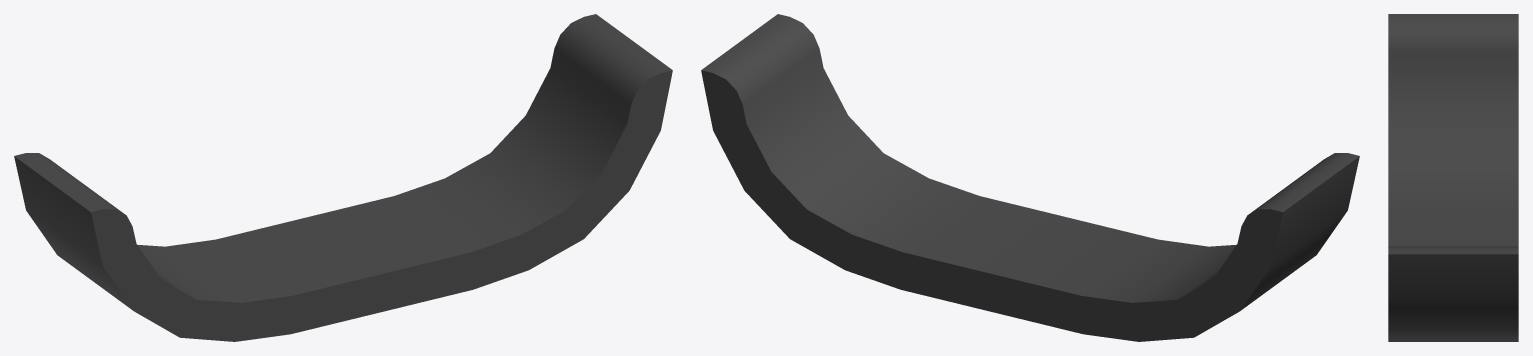
File: diff_10.1.fbx
The picture shows the model from 3 angles, left to right: view 1: azimuth 30°, elevation 25°; view 2: azimuth 150°, elevation 25°; view 3: azimuth 270°, elevation 25°; orthographic projection. The views are drawn at different scales.
Parts seen in each view (by area): view 1: BezierCurve; view 2: BezierCurve; view 3: BezierCurve.
Part boxes in pixels (x1=…): BezierCurve: x1=14, y1=14, x2=672, y2=341; BezierCurve: x1=701, y1=14, x2=1359, y2=341; BezierCurve: x1=1388, y1=14, x2=1518, y2=341.
Bounding box in the file's own units: 1535 × 431 × 351.
